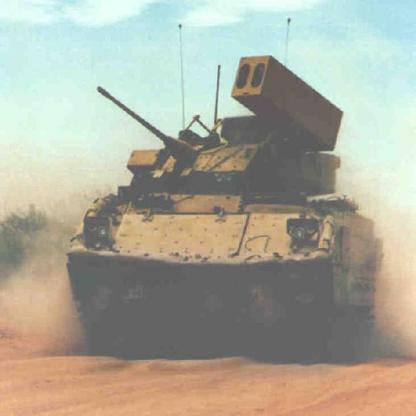Tank: (66, 53, 386, 370)
